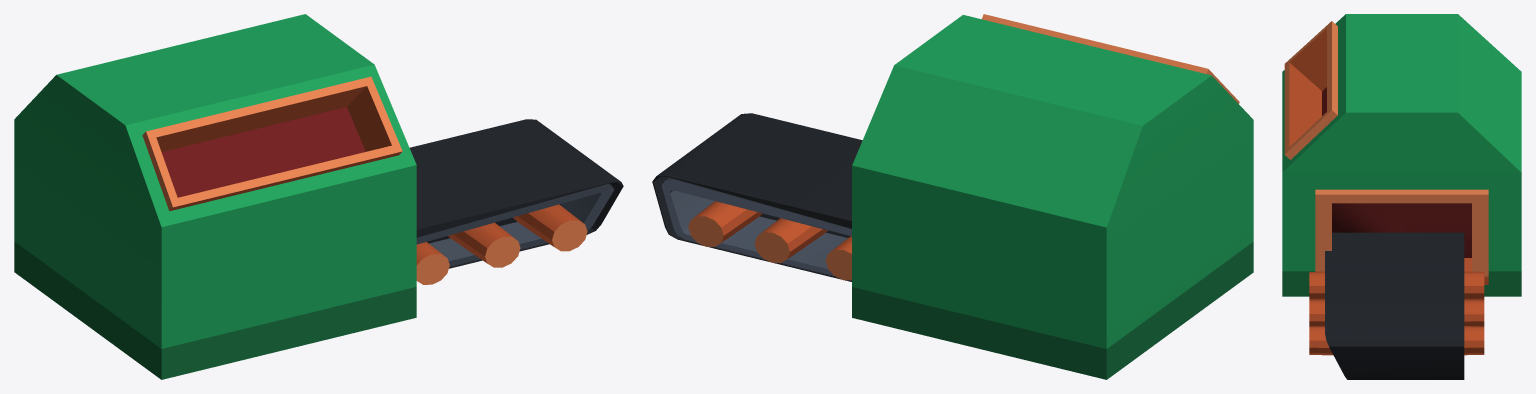
The model's file is Reciclador_VERDE.fbx.
3 renders of one model, left to right at view 1: azimuth 30°, elevation 25°; view 2: azimuth 150°, elevation 25°; view 3: azimuth 270°, elevation 25°, orthographic. The views are drawn at different scales.
Parts seen in each view (by area): view 1: Cube; view 2: Cube; view 3: Cube.
Part boxes in pixels (x1=…): Cube: x1=14, y1=14, x2=623, y2=379; Cube: x1=652, y1=14, x2=1253, y2=379; Cube: x1=1282, y1=14, x2=1521, y2=379.
Bounding box in the file's own units: 722 × 317 × 375.
1 material, 1 textured.
